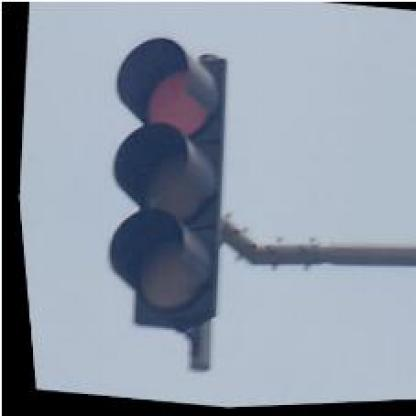red: (75, 31, 244, 339)
